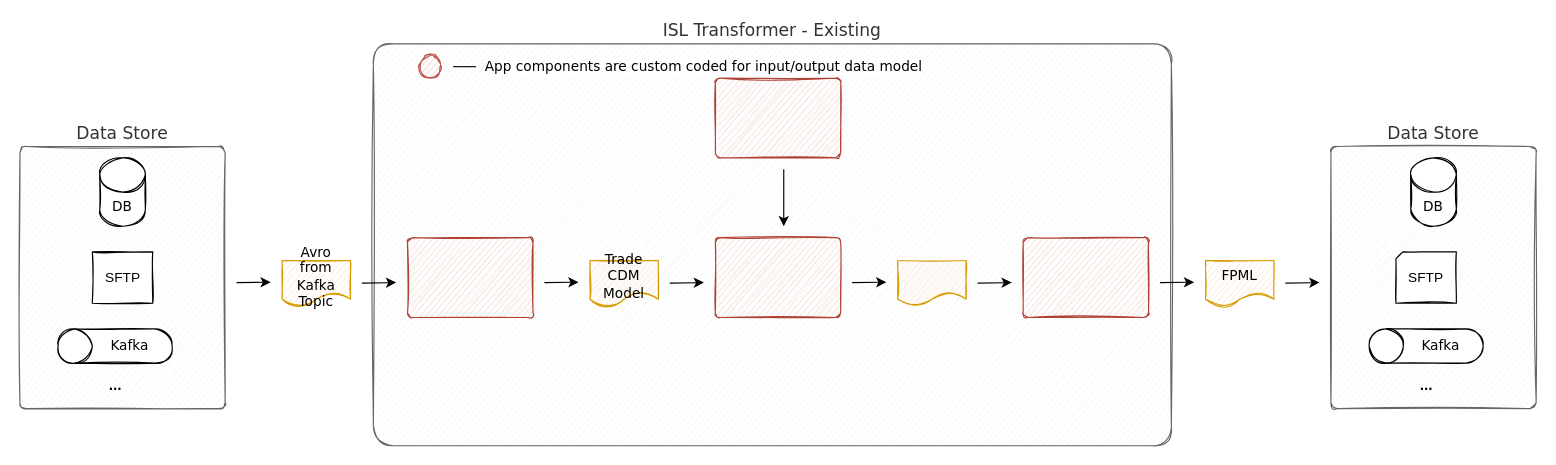
Image size: 1556x465. Some labels were removed from this diagram. Here are the shapes that lost their labels. From the top down, the box of each, then its label:
(714, 77, 841, 158): Velocity Templates, configs
(406, 237, 533, 317): To App Data Model
(714, 237, 841, 317): Transform, Filter, Enrich, ...
(897, 259, 966, 306): Trade + Velocity Tmpl
(1022, 237, 1149, 317): To Output Format
